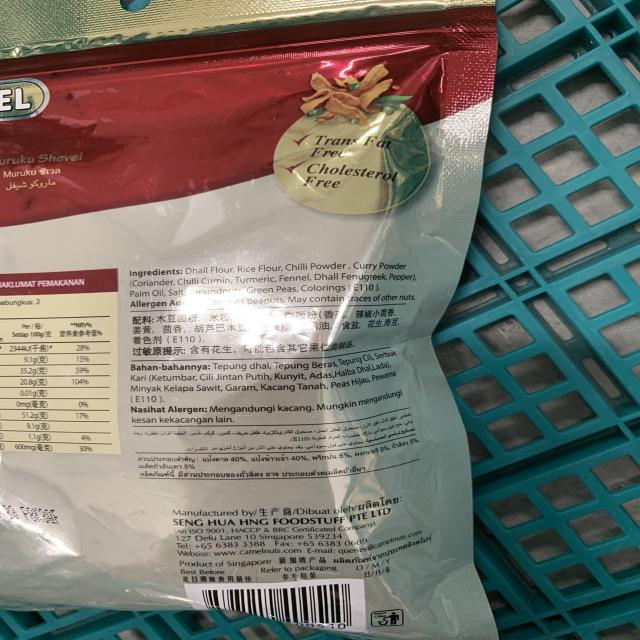object_name: (4, 1, 493, 640)
